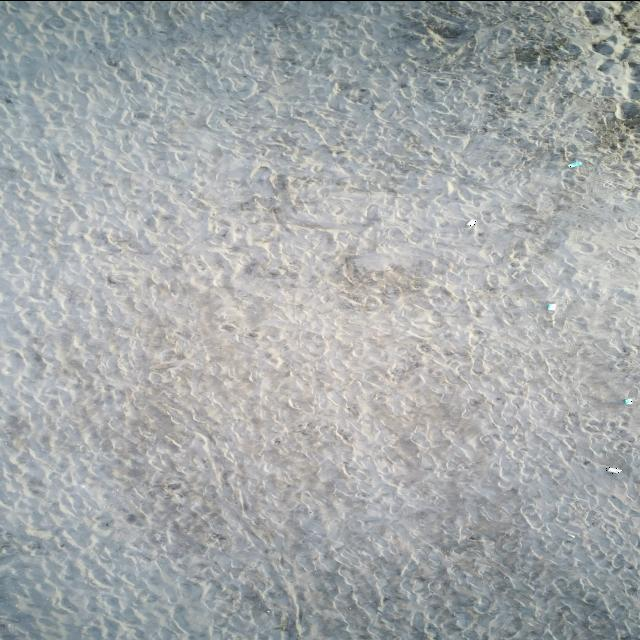Garbage: (567, 160, 582, 167), (606, 467, 620, 472), (467, 219, 475, 227), (547, 303, 555, 311), (624, 397, 631, 404)
